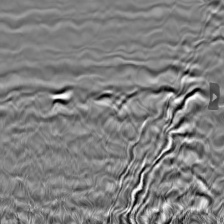cavities: (124, 62, 224, 224)
